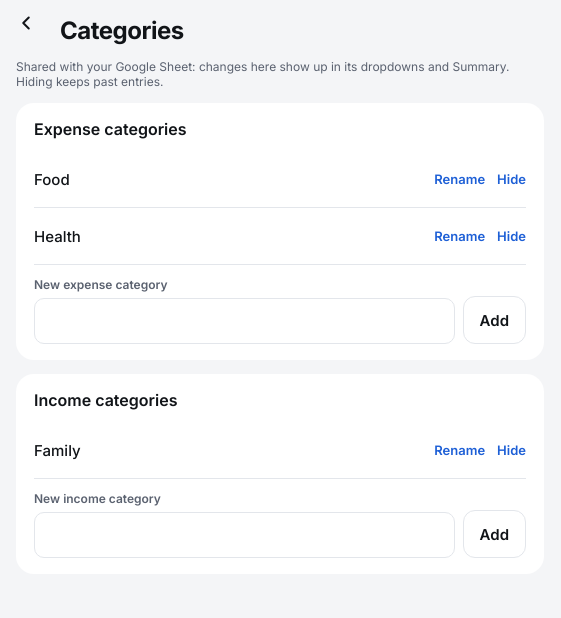
Scenario: adding a name that already exists (any case) is refused
The width and height of the screenshot is (561, 618).
Type "food" into the field labelled "New expense category" at (244, 321), box [34,298,455,344]
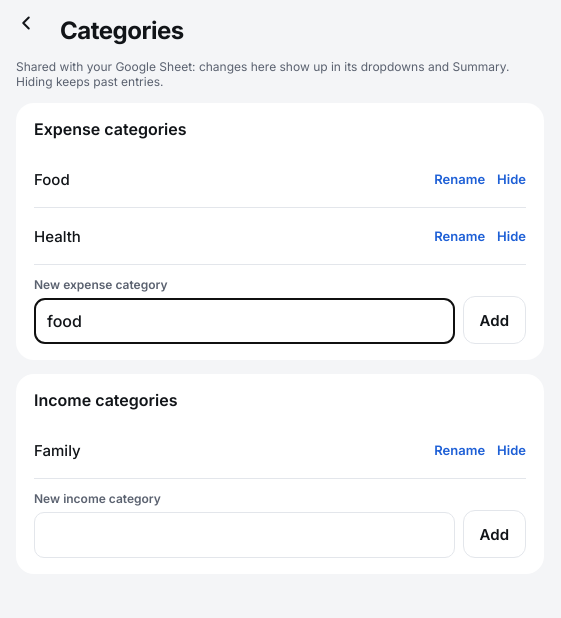
Click the button with aria-label "Add expense category" at (494, 320), box [463,296,526,344]
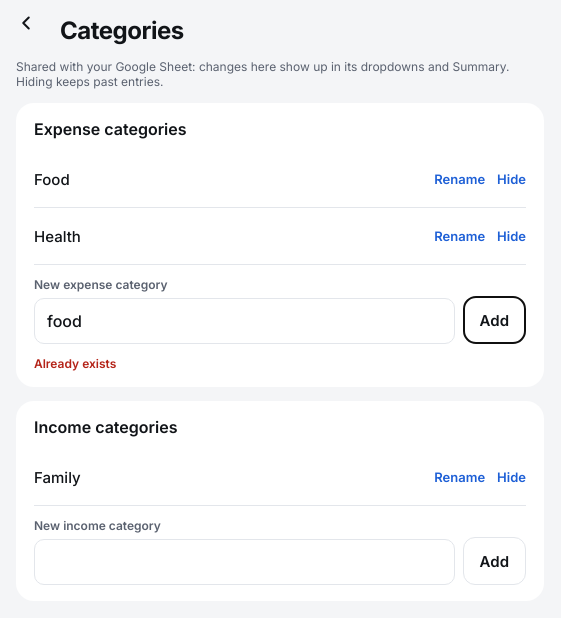
Expected: the text "Already exists" is shown, [34,356,116,371]
